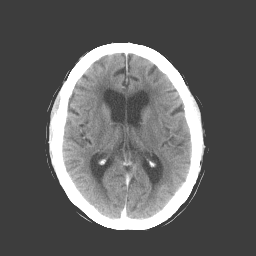ischemic: (153, 122, 180, 148)
